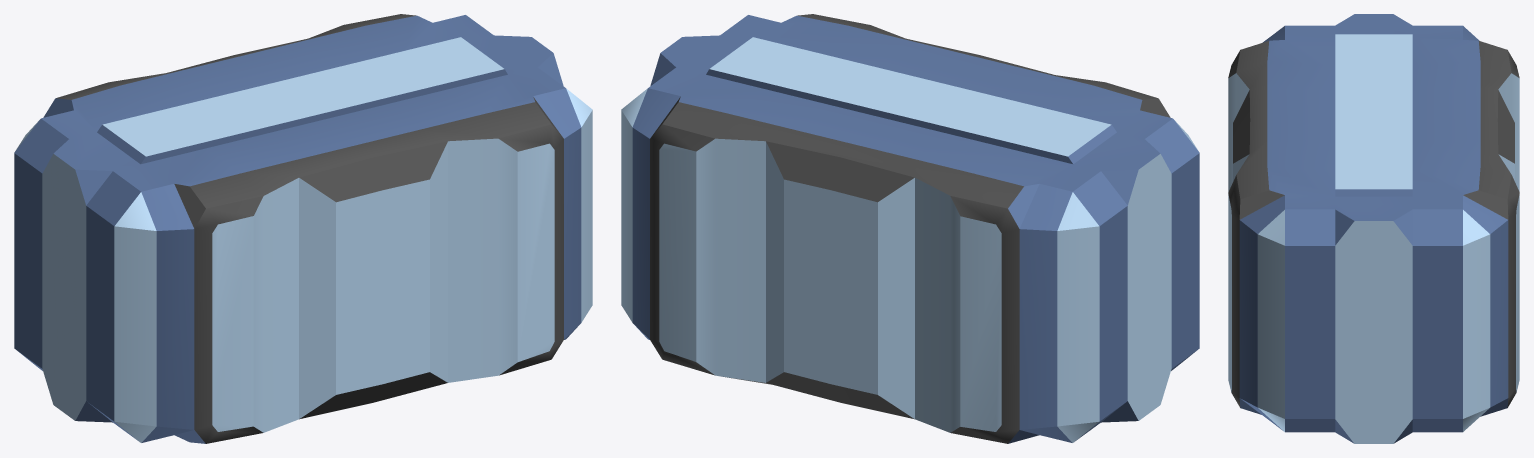
The model's file is crate.fbx.
3 renders of one model, left to right at view 1: azimuth 30°, elevation 25°; view 2: azimuth 150°, elevation 25°; view 3: azimuth 270°, elevation 25°, orthographic. The views are drawn at different scales.
Parts seen in each view (by area): view 1: pCube1; view 2: pCube1; view 3: pCube1.
Part boxes in pixels (box(x1,y1,x2,y2)): pCube1: box(14, 14, 592, 443); pCube1: box(621, 14, 1199, 443); pCube1: box(1228, 14, 1519, 443).
Bounding box in the file's own units: 7.25 × 3.79 × 4.32.
